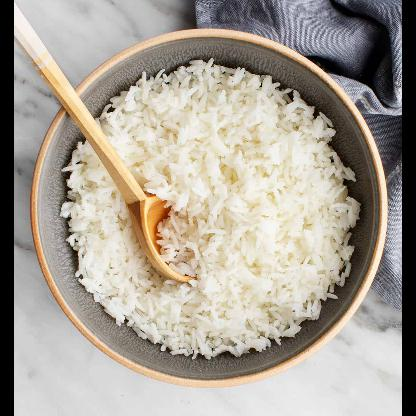white rice: (61, 60, 361, 360)
